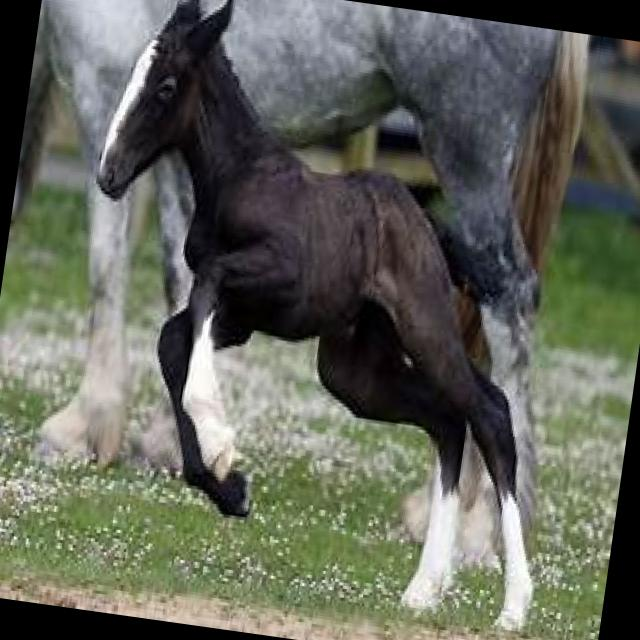animal: (46, 0, 610, 632), (0, 0, 603, 563)
